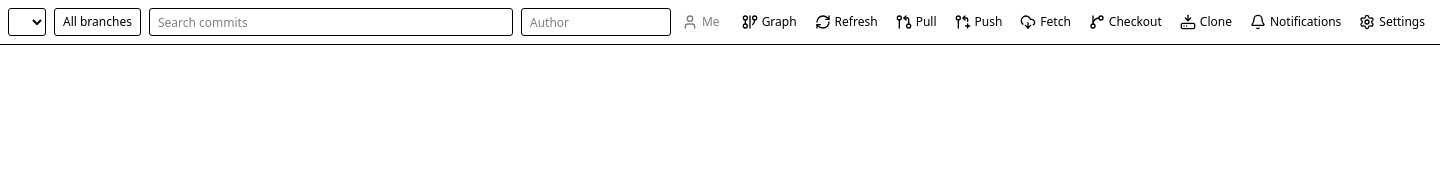
Test: Header › closes the branch menu when pointer down happens outside it
This screenshot has width=1440, height=170.
Click the button "All branches". click: (97, 22)
box: x1=54 y1=8 x2=141 y2=36
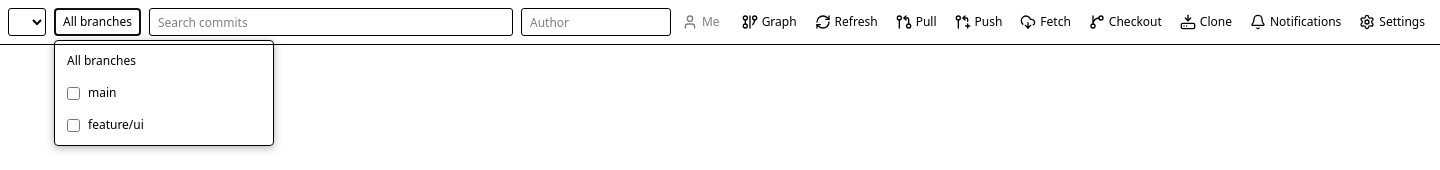
Expected: the menu "branches" is shown, x1=54 y1=40 x2=274 y2=146
